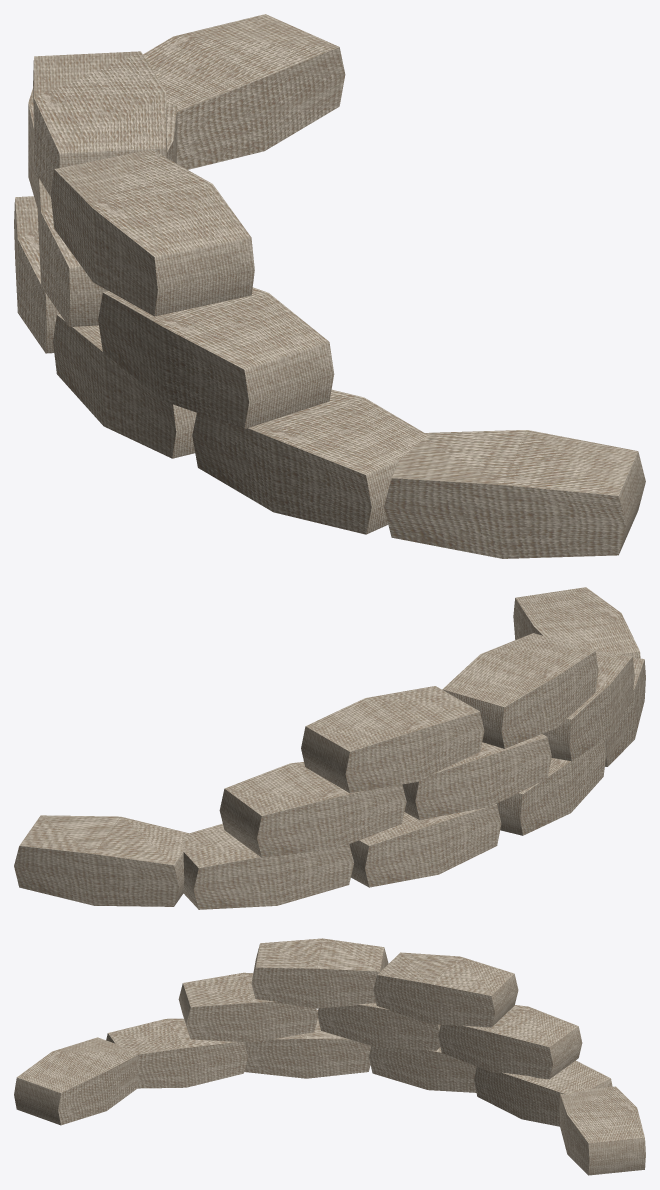
File: PROP_Wall_Sandbag.fbx
3 renders of one model, top to bottom at view 1: azimuth 30°, elevation 25°; view 2: azimuth 150°, elevation 25°; view 3: azimuth 270°, elevation 25°, orthographic. The views are drawn at different scales.
Visible parts, largest first — view 1: group2; view 2: group2; view 3: group2.
Boxes of the visible parts, x1=… form: group2: x1=14, y1=14, x2=645, y2=558; group2: x1=14, y1=587, x2=645, y2=909; group2: x1=14, y1=938, x2=645, y2=1175.
Bounding box in the file's own units: 3.68 × 1.43 × 7.36.
Materials: 1 (1 with a texture image).
